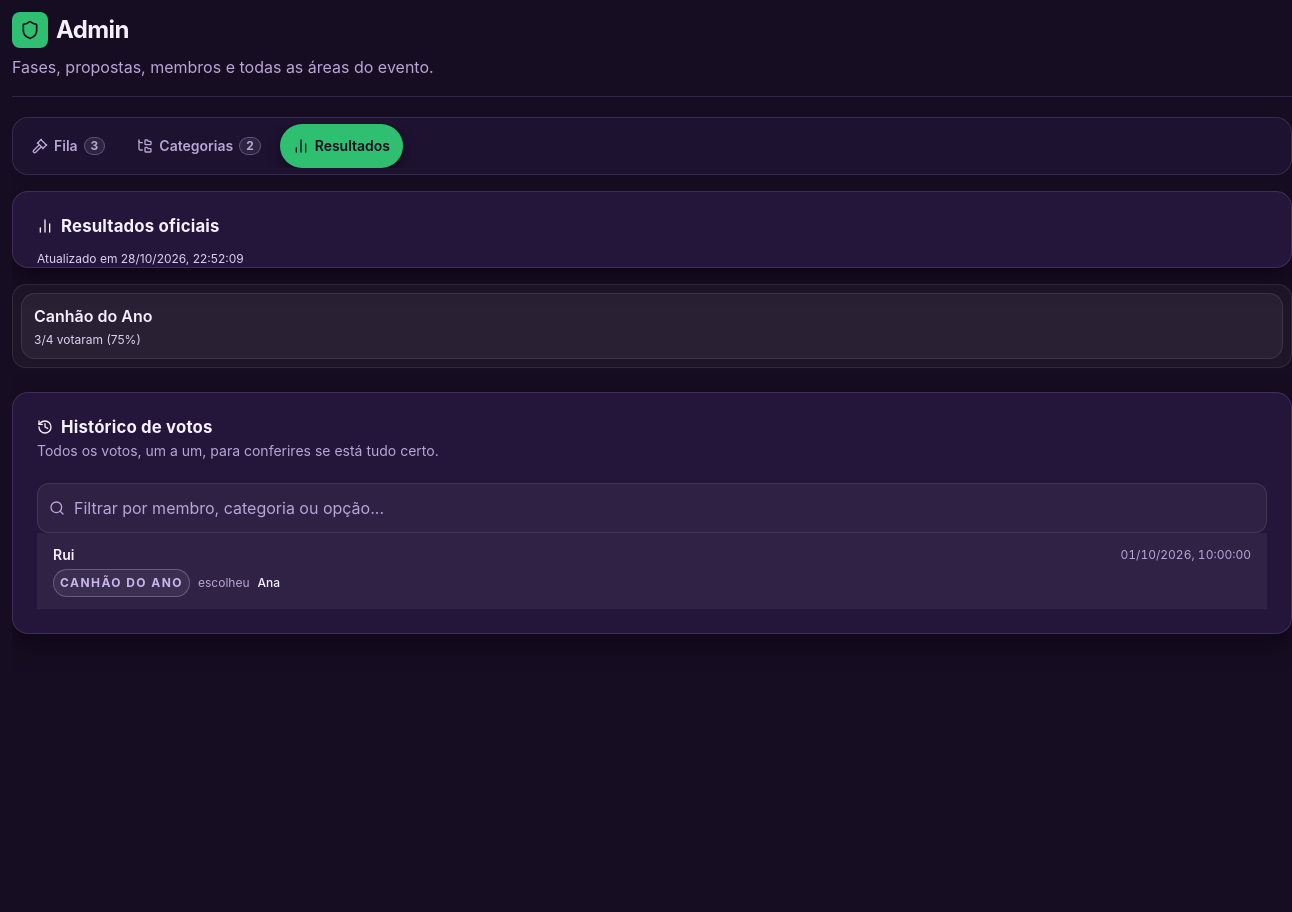
it: CanhoesAdminModule — categories and results › filters the vote audit
Type "ninguém" into the field with placeholder "Filtrar por membro, categoria ou opção..." at x=652, y=508, box [37,483,1267,533]
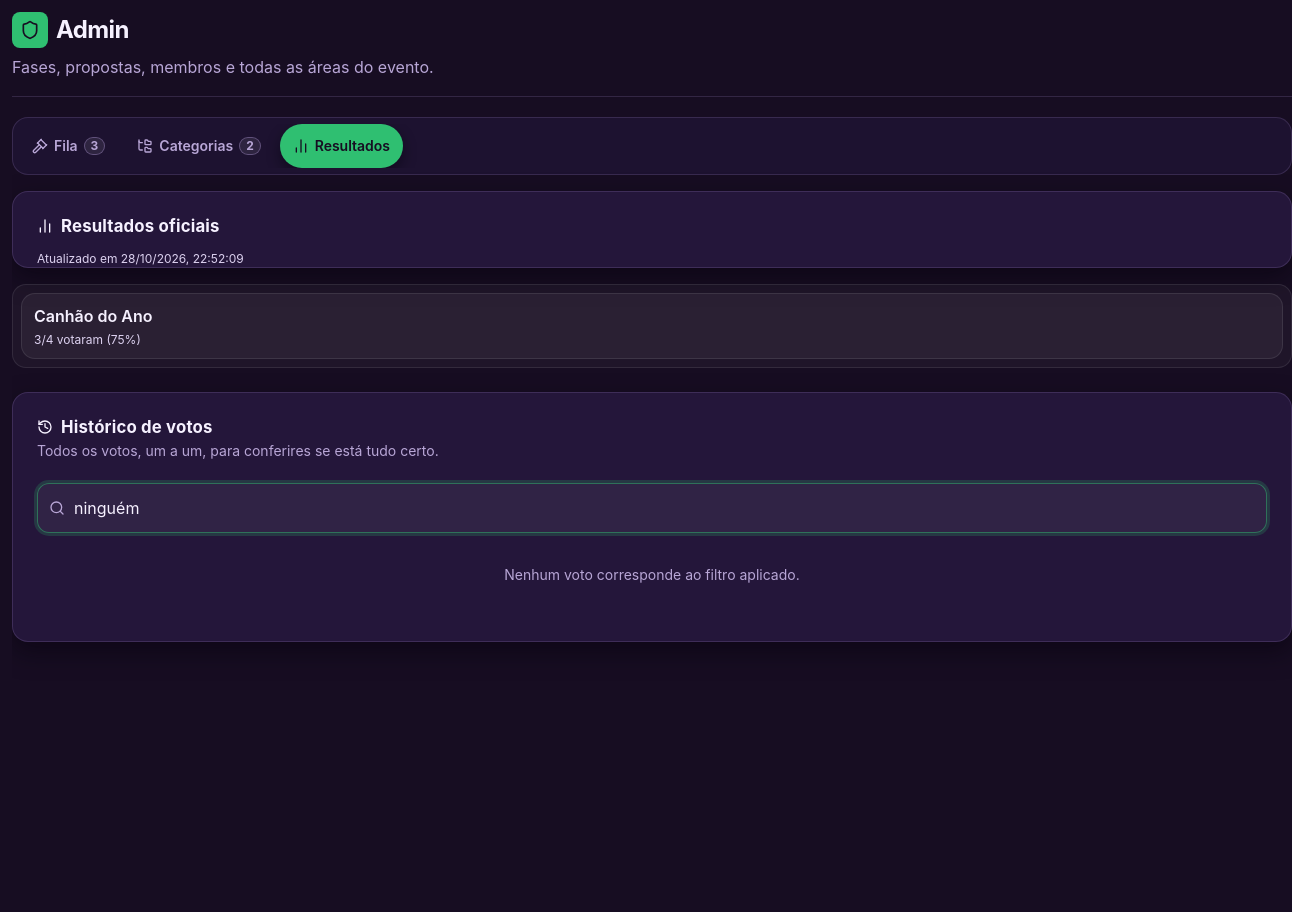
Expected: the text "Nenhum voto corresponde ao filtro aplicado." is shown, [504,566,800,583]
